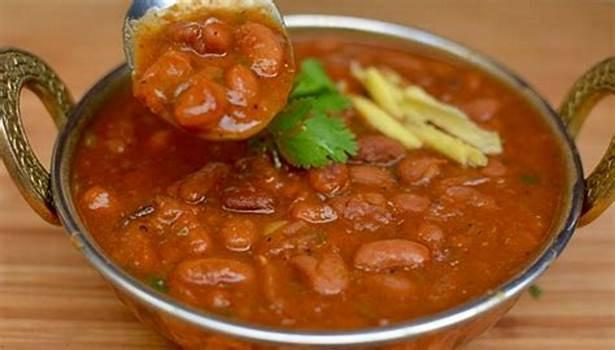RajmaCurry: (69, 23, 565, 334)
